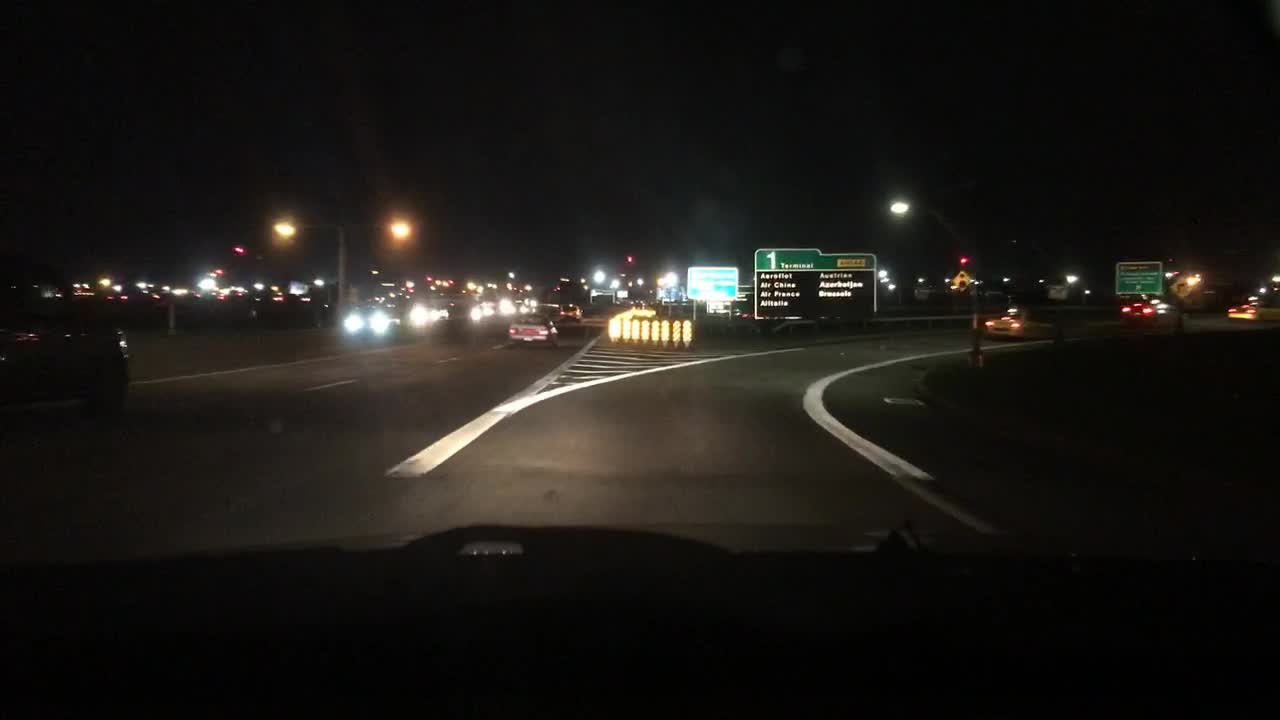car: (0, 298, 130, 417), (338, 304, 401, 347), (981, 309, 1061, 340), (505, 310, 560, 349), (1119, 296, 1178, 318), (1226, 293, 1261, 322), (409, 301, 455, 322), (469, 303, 496, 321), (557, 303, 583, 319), (498, 300, 517, 315), (516, 303, 537, 315)
traffic light: (229, 240, 249, 257), (621, 252, 636, 267), (958, 252, 972, 266)
traffic sign: (755, 247, 878, 319), (684, 264, 739, 300), (1114, 260, 1165, 295), (950, 267, 975, 292), (649, 316, 663, 348), (669, 317, 683, 349), (681, 317, 695, 349), (605, 317, 622, 343), (638, 317, 652, 346), (658, 319, 671, 348), (619, 317, 632, 342), (629, 317, 640, 343)
